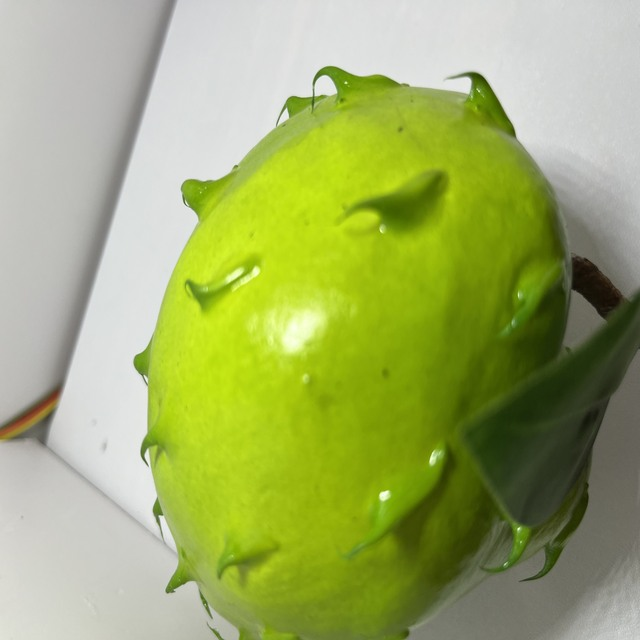Man cau: (136, 54, 577, 640)
